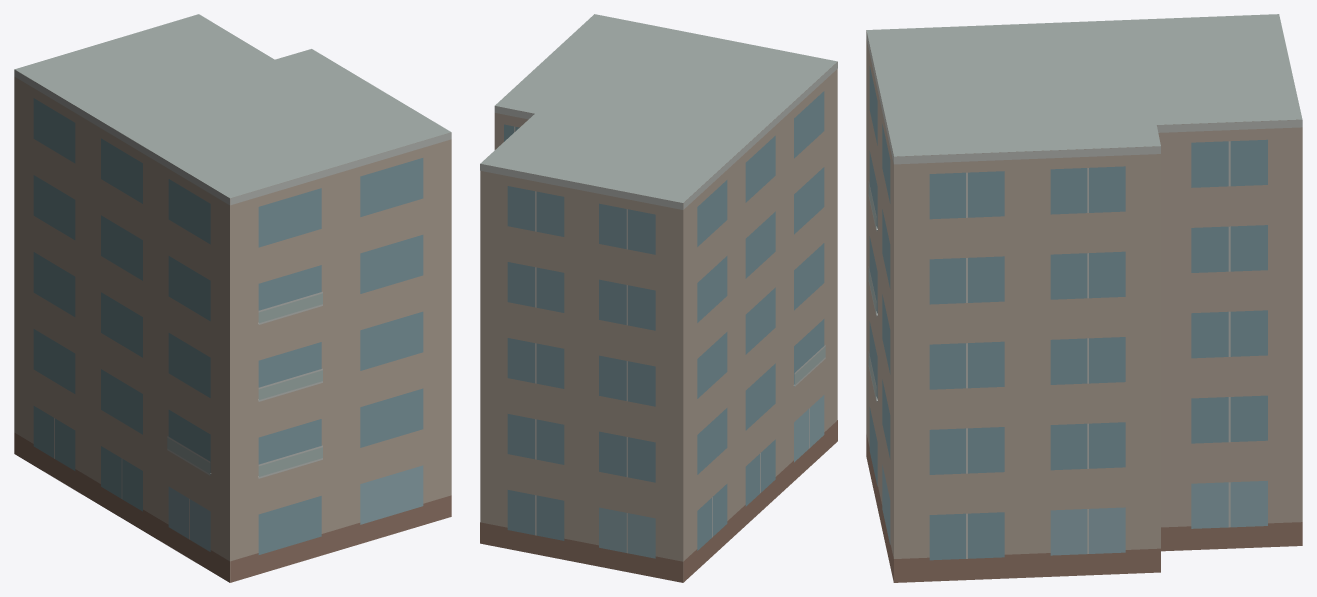
Rendered from survey-upis-32706164.glb.
The picture shows the model from 3 angles, left to right: view 1: azimuth 30°, elevation 25°; view 2: azimuth 150°, elevation 25°; view 3: azimuth 270°, elevation 25°; orthographic projection. The views are drawn at different scales.
Visible parts, largest first — view 1: survey-upis-32706164.tmp; view 2: survey-upis-32706164.tmp; view 3: survey-upis-32706164.tmp.
Part boxes in pixels (bbox=[...]): survey-upis-32706164.tmp: bbox=[14, 14, 451, 582]; survey-upis-32706164.tmp: bbox=[480, 14, 837, 582]; survey-upis-32706164.tmp: bbox=[866, 14, 1302, 582].
Size of the model in its own units: 9.48 by 13.2 by 12.25.
